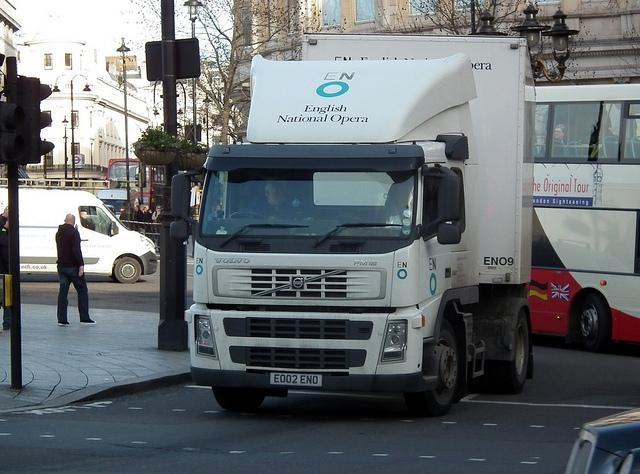bus: (529, 81, 640, 348), (104, 158, 177, 214)
car: (567, 401, 640, 468)
truck: (185, 34, 536, 418), (19, 187, 154, 281)
